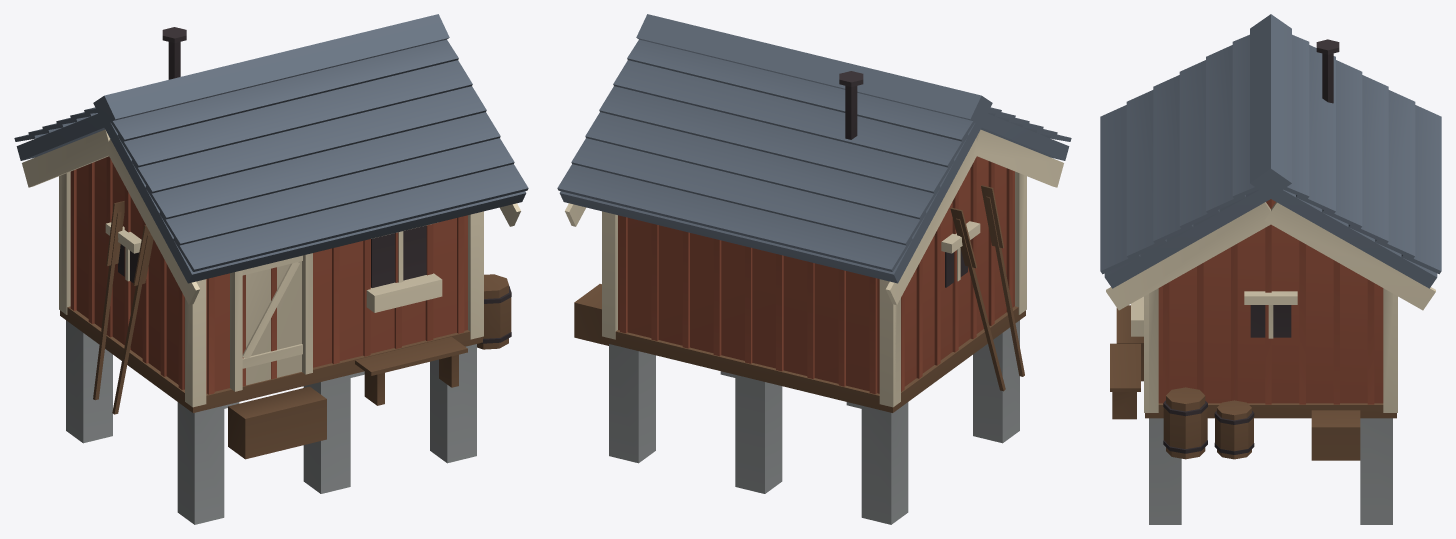
File: cabin_0.glb
3 renders of one model, left to right at view 1: azimuth 30°, elevation 25°; view 2: azimuth 150°, elevation 25°; view 3: azimuth 270°, elevation 25°, orthographic. The views are drawn at different scales.
Parts seen in each view (by area): view 1: cabin_0; view 2: cabin_0; view 3: cabin_0.
Part boxes in pixels (x1,y1,x2,y2): cabin_0: (14, 14, 528, 524); cabin_0: (557, 14, 1071, 524); cabin_0: (1100, 14, 1441, 524).
Size of the model in its own units: 5.07 by 5.21 by 4.2.
